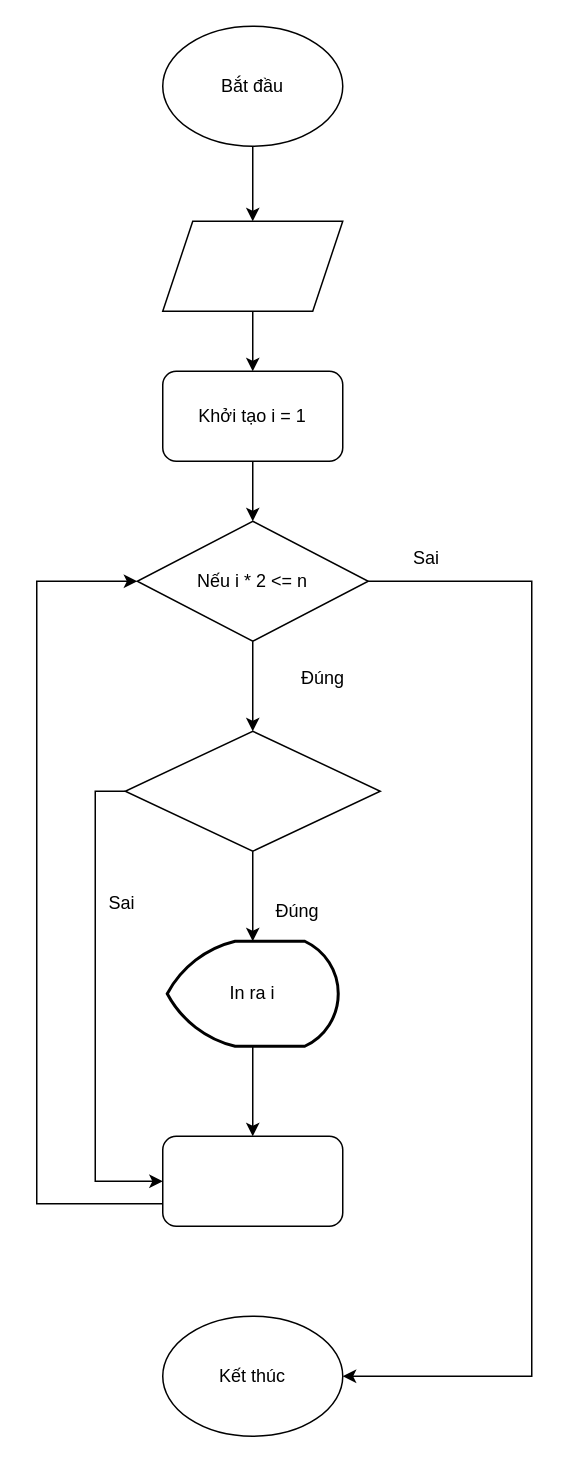
This 570x1463 diagram has some shape labels left out. The shapes that lost their labels are listed below. From the top down, each one's box as (x1, y1, x2, y2) in pixels, then its label:
(161, 220, 343, 311): Nhập số nguyên dương n bất kì
(124, 730, 380, 851): N % i == 0 ?
(161, 1135, 343, 1226): Tăng biến i thêm 1
